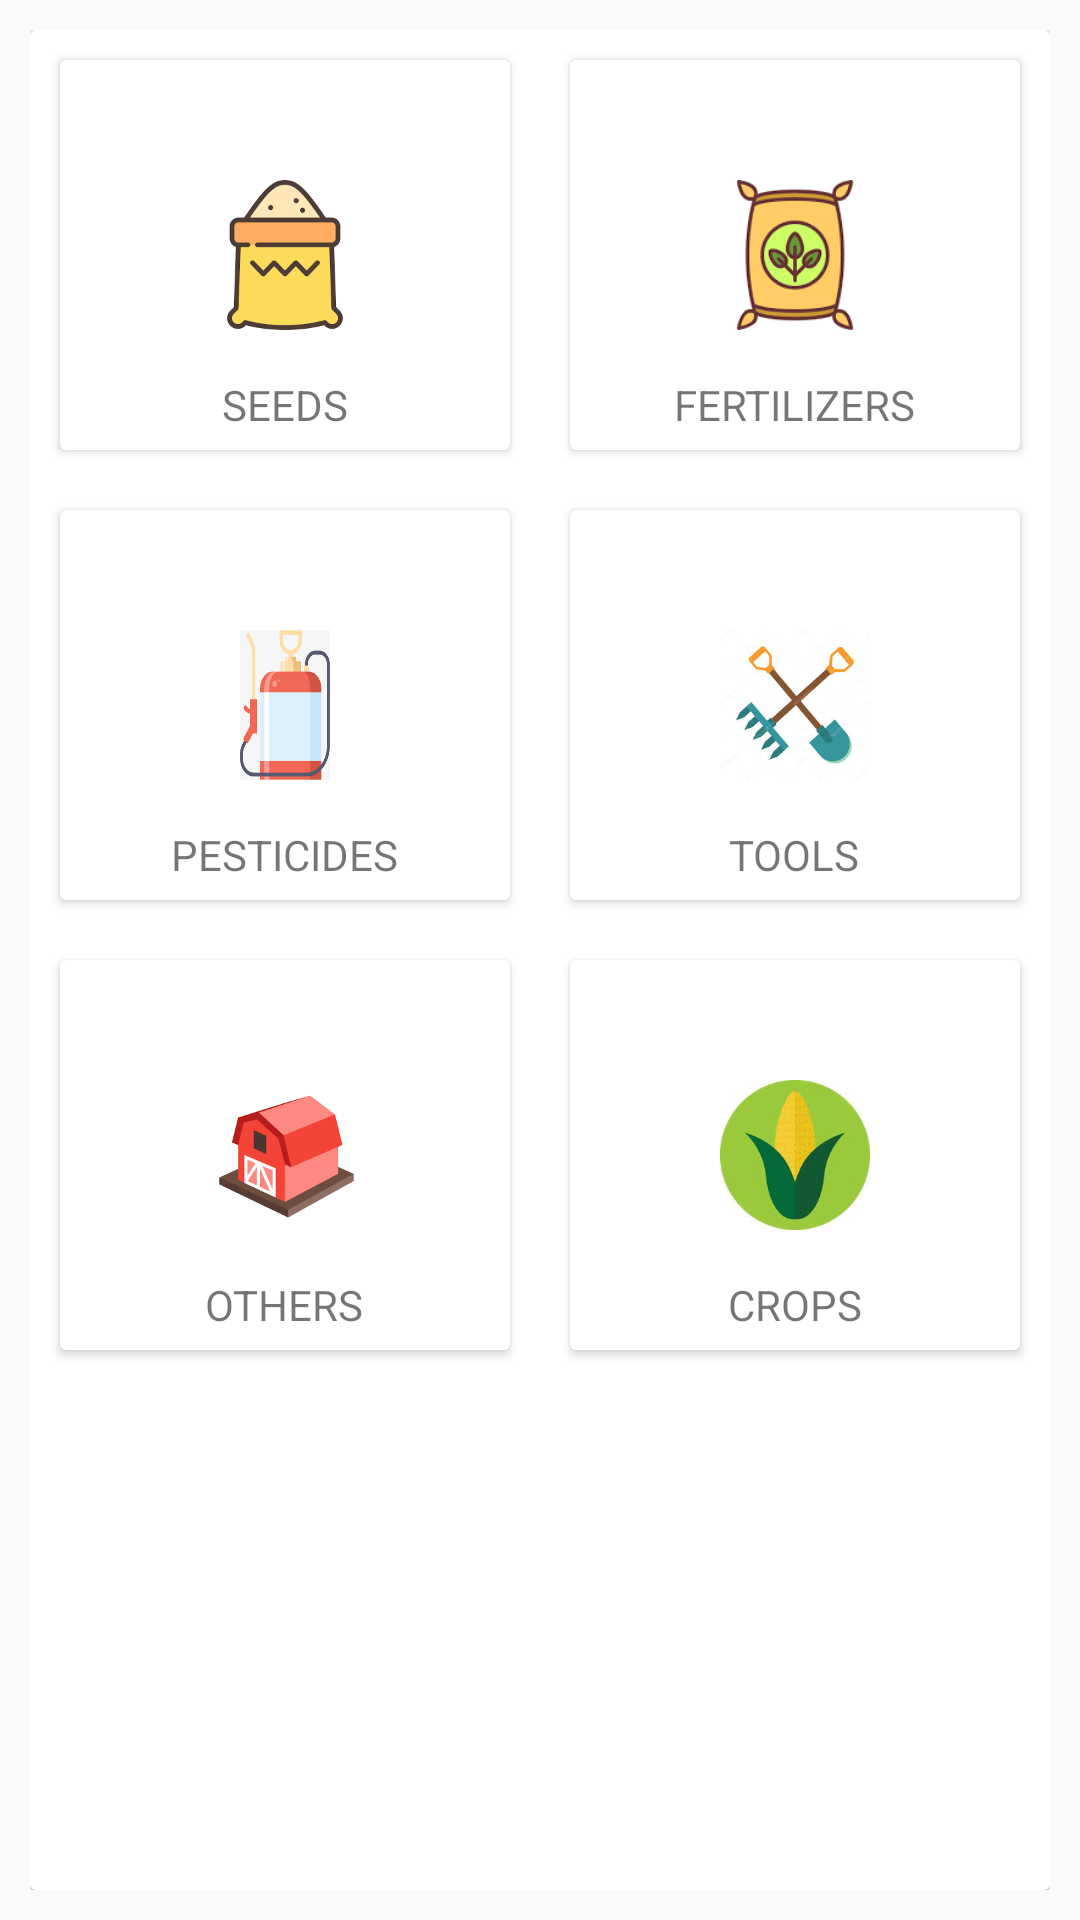

Point at icon controls on the screen. Image size 1080px x 1920px, points as [x,y].
sack: [285,255]
